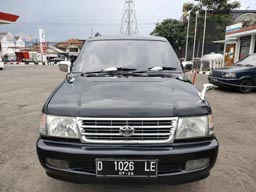plat: (95, 158, 161, 171)
